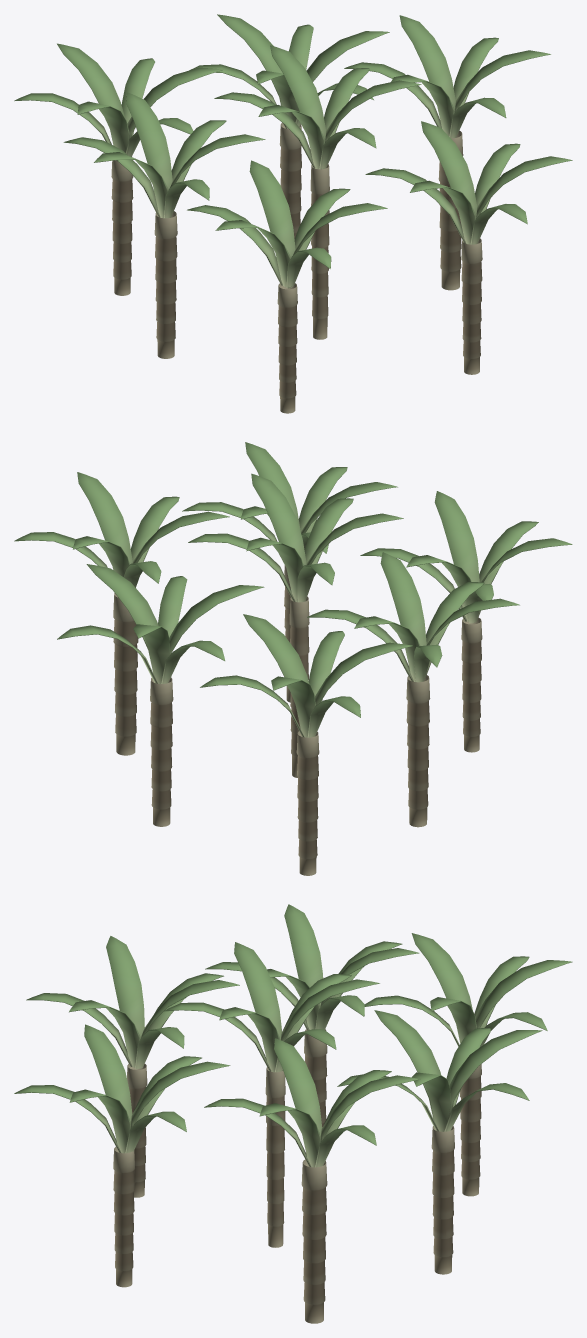
The model's file is Sugarcane_STAGE2.fbx.
The picture shows the model from 3 angles, top to bottom: view 1: azimuth 30°, elevation 25°; view 2: azimuth 150°, elevation 25°; view 3: azimuth 270°, elevation 25°; orthographic projection. The views are drawn at different scales.
Parts seen in each view (by area): view 1: Sugarcane_STAGE2; view 2: Sugarcane_STAGE2; view 3: Sugarcane_STAGE2.
Boxes of the visible parts, x1,y1,x2,y2 form: Sugarcane_STAGE2: (14,14,572,413); Sugarcane_STAGE2: (14,442,572,875); Sugarcane_STAGE2: (14,904,572,1323).
Bounding box in the file's own units: 1.24 × 1.18 × 0.64.
